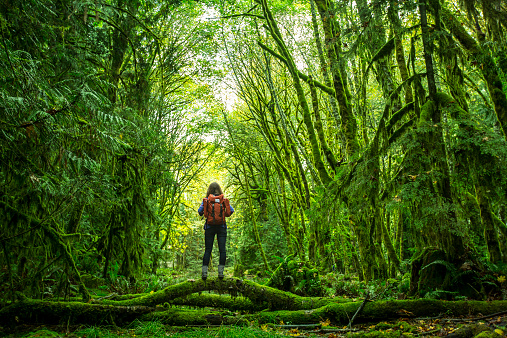em pe: (197, 186, 220, 268)
